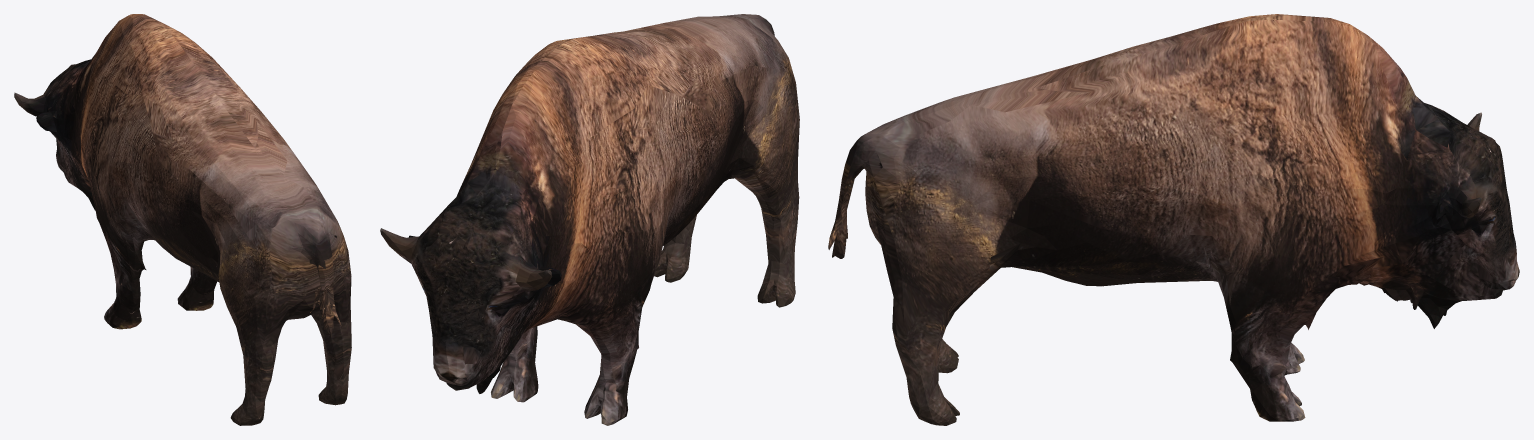
File: Bizon-bl.obj
3 views of the same model, side by side, from view 1: azimuth 30°, elevation 25°; view 2: azimuth 150°, elevation 25°; view 3: azimuth 270°, elevation 25° (orthographic). The views are drawn at different scales.
Visible parts, largest first — view 1: Bison_FBX; view 2: Bison_FBX; view 3: Bison_FBX.
Part boxes in pixels (x1,y1,x2,y2): Bison_FBX: (14,14,351,425); Bison_FBX: (380,14,799,425); Bison_FBX: (828,14,1519,425).
Bounding box in the file's own units: 1.86 × 3.74 × 6.23.
1 material, 1 textured.
